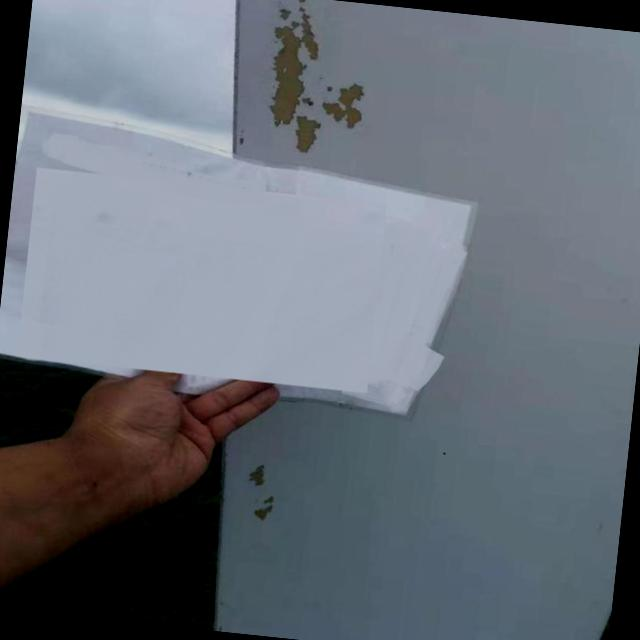surface_peeling: (259, 0, 380, 159), (242, 462, 280, 524)
